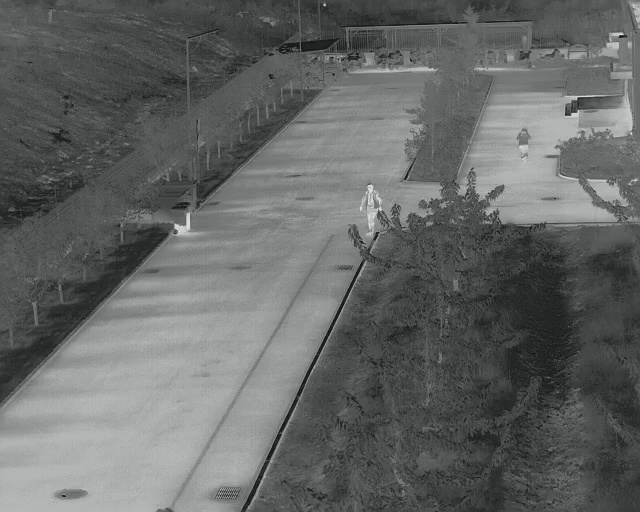person: (361, 183, 379, 236), (515, 127, 530, 162)
